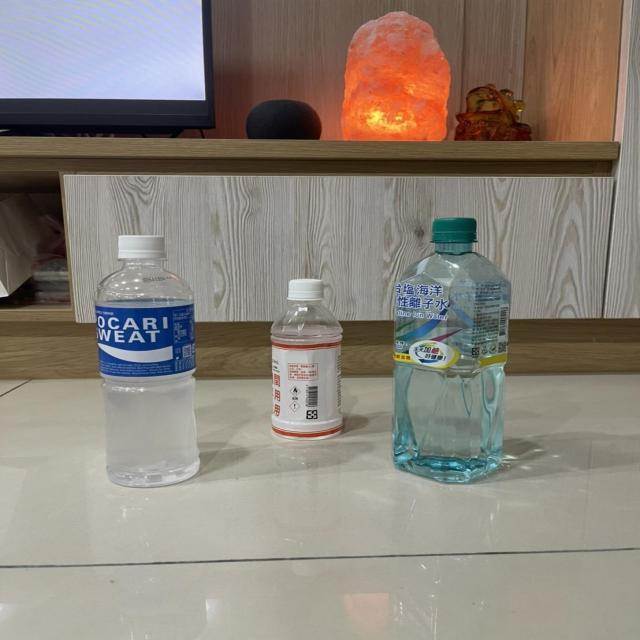bottle: (383, 213, 524, 488), (81, 232, 208, 488), (269, 275, 346, 441)
